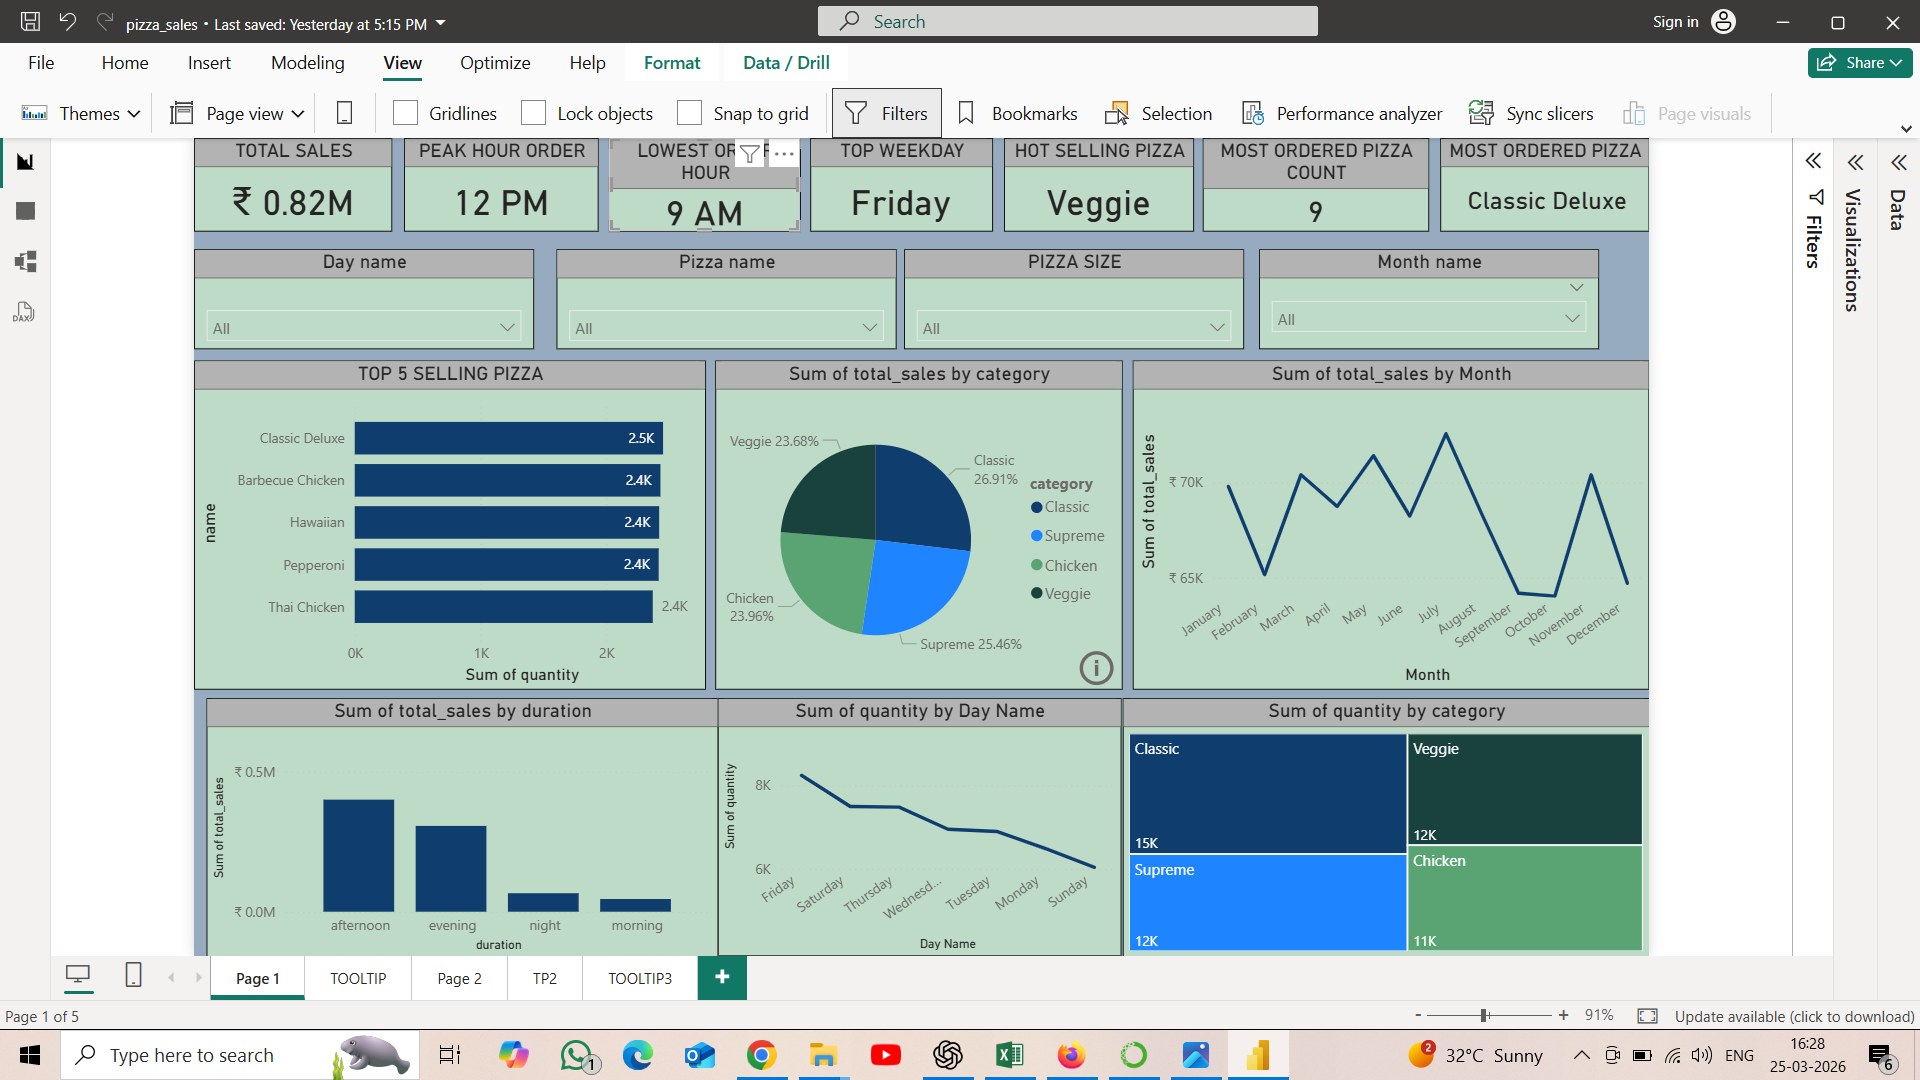

The dashboard page shown, as its layout file describes it:
{"tool":"powerbi","page":{"name":"Page 1","canvas":[1280,720],"ordinal":0},"visuals":[{"type":"card","title":"TOTAL SALES","fields":{"Values":["Sum(order_details.total_sales)"]},"box":[0,0,174.3,82.3],"z":0},{"type":"card","title":"PEAK HOUR ORDER","fields":{"Values":["orders.PeakHour"]},"box":[185.2,0,171.5,82.3],"z":1000},{"type":"card","title":"LOWEST ORDER HOUR","fields":{"Values":["orders.LowestOrderHour"]},"box":[365,0,168.8,82.3],"z":2000},{"type":"card","title":"TOP WEEKDAY","fields":{"Values":["orders.TopWeekday"]},"box":[542,0,160.5,82.3],"z":3000},{"type":"columnChart","fields":{"Category":["orders.duration"],"Y":["Sum(order_details.total_sales)"]},"box":[11,492.6,450.1,227.8],"z":4000},{"type":"pieChart","fields":{"Category":["pizza_types.category"],"Y":["Sum(order_details.total_sales)"]},"box":[458.3,196.2,358.1,289.5],"z":5000},{"type":"card","title":"HOT SELLING PIZZA","fields":{"Values":["pizza_types.TopPizzaCategory"]},"box":[712.2,0,167.4,82.3],"z":6000},{"type":"lineChart","fields":{"Y":["Sum(order_details.total_sales)"],"Category":["orders.date.Variation.Date Hierarchy.Month"]},"box":[826.1,196.2,454.2,289.5],"z":7000},{"type":"treemap","fields":{"Group":["pizza_types.category"],"Values":["Sum(order_details.quantity)"]},"box":[816.5,492.6,463.8,227.8],"z":8000},{"type":"slicer","title":"Day name","fields":{"Values":["orders.Day Name"]},"box":[0,97.4,299.1,87.8],"z":9000},{"type":"slicer","title":"Pizza name","fields":{"Values":["pizza_types.name"]},"box":[318.4,97.4,299.1,87.8],"z":10000},{"type":"slicer","title":"PIZZA SIZE","fields":{"Values":["order_details.pizzas.size"]},"box":[624.4,97.4,299.1,87.8],"z":11000},{"type":"slicer","title":"Month name","fields":{"Values":["orders.Month Name"]},"box":[937.2,97.4,299.1,87.8],"z":12000},{"type":"lineChart","fields":{"Category":["orders.Day Name"],"Y":["Sum(order_details.quantity)"]},"box":[461,493,355,227],"z":13000},{"type":"card","title":"MOST ORDERED PIZZA COUNT","fields":{"Values":["pizza_types.MostOrderedPizzaCount"]},"box":[887.8,0,199,82.3],"z":14000},{"type":"card","title":"MOST ORDERED PIZZA","fields":{"Values":["pizza_types.MostOrderedPizza"]},"box":[1096.4,0,183.9,82.3],"z":15000},{"type":"barChart","title":"TOP 5 SELLING PIZZA","fields":{"Category":["pizza_types.name"],"Y":["Sum(order_details.quantity)"]},"box":[0,196.2,450.1,289.5],"z":16000},{"type":"actionButton","box":[773.9,446,100.2,39.8],"z":17000}]}

Visuals, with their boxes on the page's 1280x720 design canvas (x1, y1, x2, y2). These are canvas units, not pixel positions in the 1920x1080 screenshot, which may show the page scaled, cropped or inside an application window:
"TOTAL SALES" card: <bbox>0, 0, 174, 82</bbox>
"PEAK HOUR ORDER" card: <bbox>185, 0, 357, 82</bbox>
"LOWEST ORDER HOUR" card: <bbox>365, 0, 534, 82</bbox>
"TOP WEEKDAY" card: <bbox>542, 0, 702, 82</bbox>
columnChart - orders.duration x Sum(order_details.total_sales): <bbox>11, 493, 461, 720</bbox>
pieChart - pizza_types.category x Sum(order_details.total_sales): <bbox>458, 196, 816, 486</bbox>
"HOT SELLING PIZZA" card: <bbox>712, 0, 880, 82</bbox>
lineChart - Sum(order_details.total_sales) x orders.date.Variation.Date Hierarchy.Month: <bbox>826, 196, 1280, 486</bbox>
treemap - pizza_types.category x Sum(order_details.quantity): <bbox>816, 493, 1280, 720</bbox>
"Day name" slicer: <bbox>0, 97, 299, 185</bbox>
"Pizza name" slicer: <bbox>318, 97, 618, 185</bbox>
"PIZZA SIZE" slicer: <bbox>624, 97, 924, 185</bbox>
"Month name" slicer: <bbox>937, 97, 1236, 185</bbox>
lineChart - orders.Day Name x Sum(order_details.quantity): <bbox>461, 493, 816, 720</bbox>
"MOST ORDERED PIZZA COUNT" card: <bbox>888, 0, 1087, 82</bbox>
"MOST ORDERED PIZZA" card: <bbox>1096, 0, 1280, 82</bbox>
"TOP 5 SELLING PIZZA" barChart: <bbox>0, 196, 450, 486</bbox>
actionButton: <bbox>774, 446, 874, 486</bbox>
